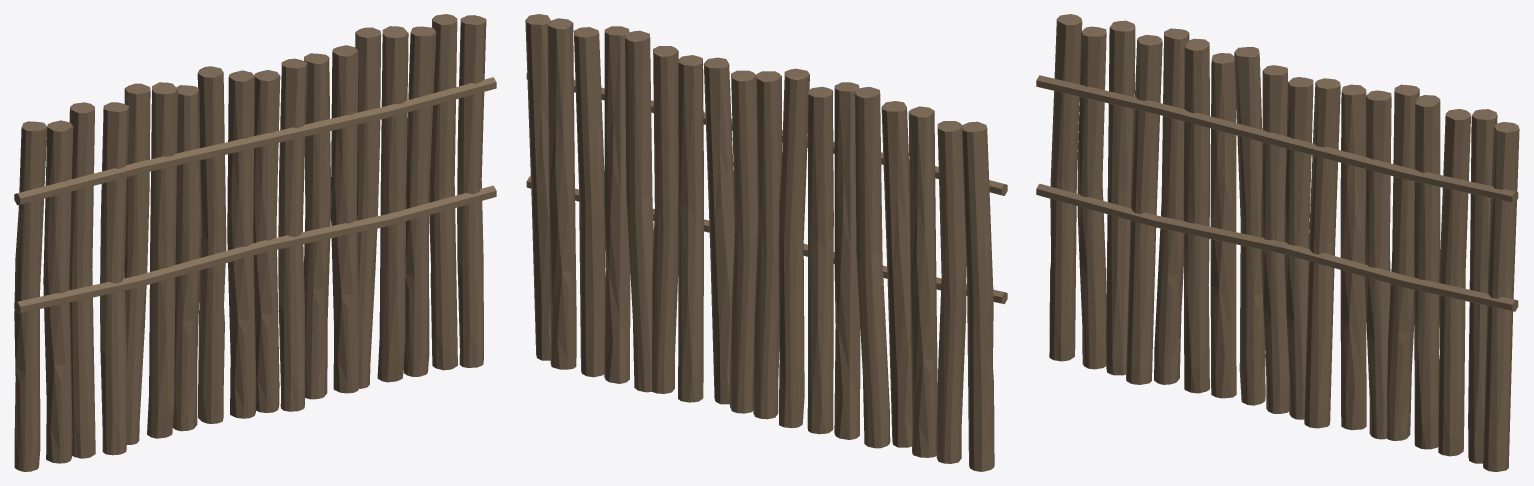
File: fence_c_2m_01.FBX
3 renders of one model, left to right at view 1: azimuth 30°, elevation 25°; view 2: azimuth 150°, elevation 25°; view 3: azimuth 330°, elevation 25°, orthographic.
Parts seen in each view (by area): view 1: fence_c_2m_01; view 2: fence_c_2m_01; view 3: fence_c_2m_01.
Part boxes in pixels (x1,y1,x2,y2): fence_c_2m_01: (14,14,496,471); fence_c_2m_01: (525,14,1007,471); fence_c_2m_01: (1036,14,1519,471).
Bounding box in the file's own units: 2.09 × 1.47 × 0.1676.
